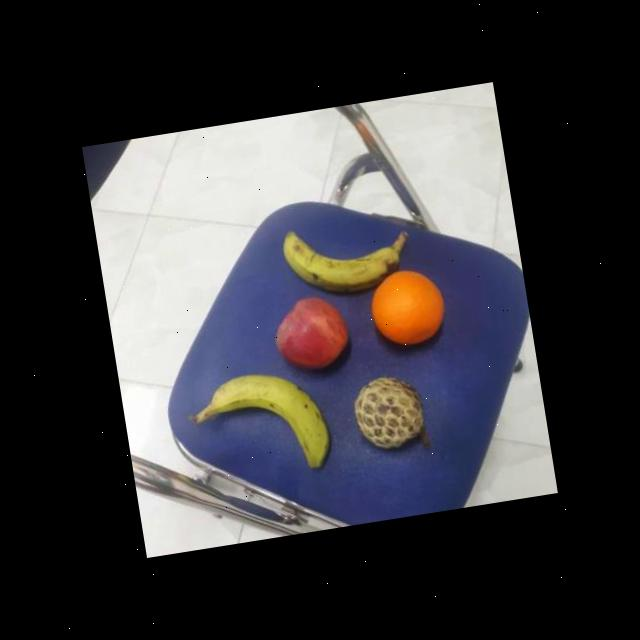Sakya fruit: (346, 366, 435, 458)
apple: (268, 290, 358, 374)
banana: (205, 359, 336, 486), (276, 215, 410, 302)
orange: (366, 262, 453, 354)
